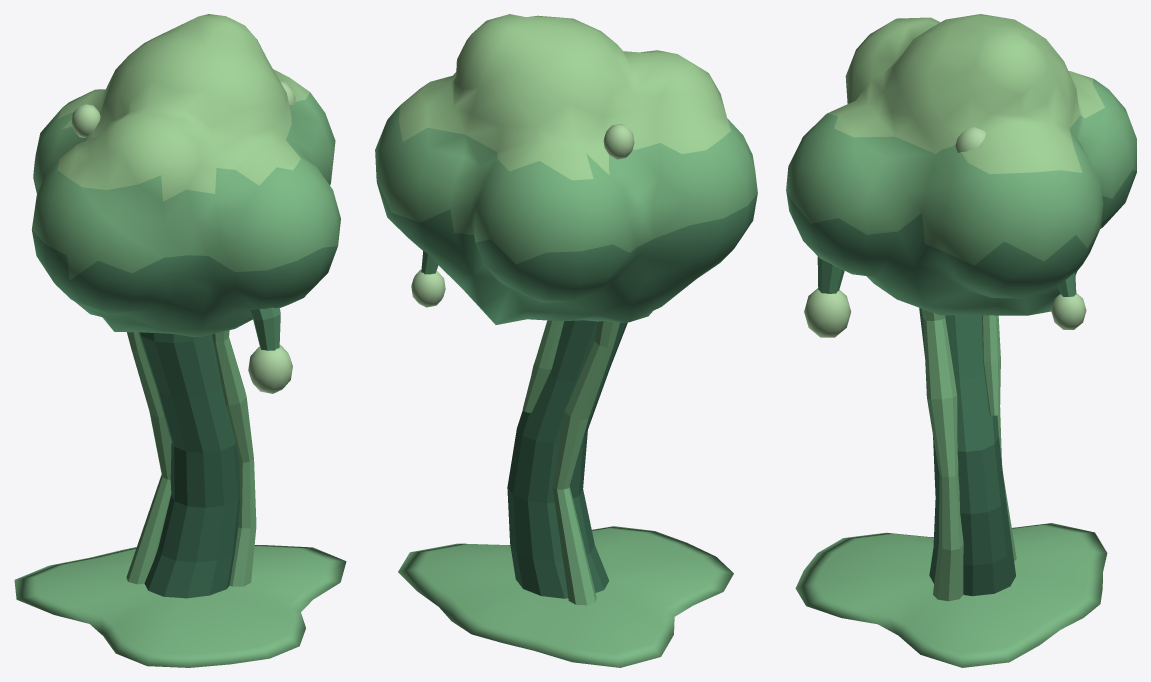
Rendered from Gooey_Tree.glb.
3 renders of one model, left to right at view 1: azimuth 30°, elevation 25°; view 2: azimuth 150°, elevation 25°; view 3: azimuth 270°, elevation 25°, orthographic. The views are drawn at different scales.
Visible parts, largest first — view 1: Gooey_Tree; view 2: Gooey_Tree; view 3: Gooey_Tree.
Boxes of the visible parts, x1,y1,x2,y2 form: Gooey_Tree: (14,14,346,667); Gooey_Tree: (375,14,757,667); Gooey_Tree: (786,14,1136,667).
Size of the model in its own units: 6.38 by 10.76 by 5.94.
